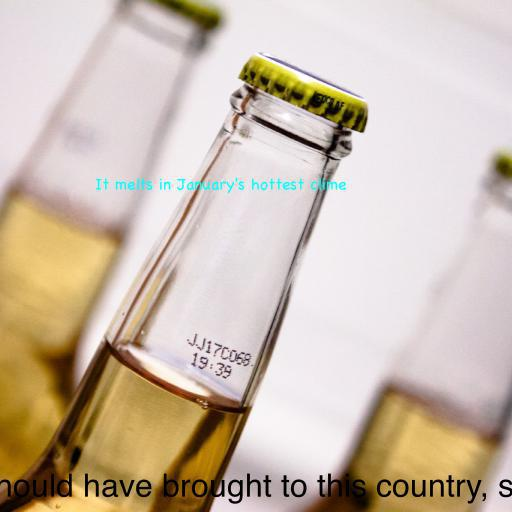Chalkboard: (95, 177, 347, 194)
Impact: (0, 473, 512, 504)
